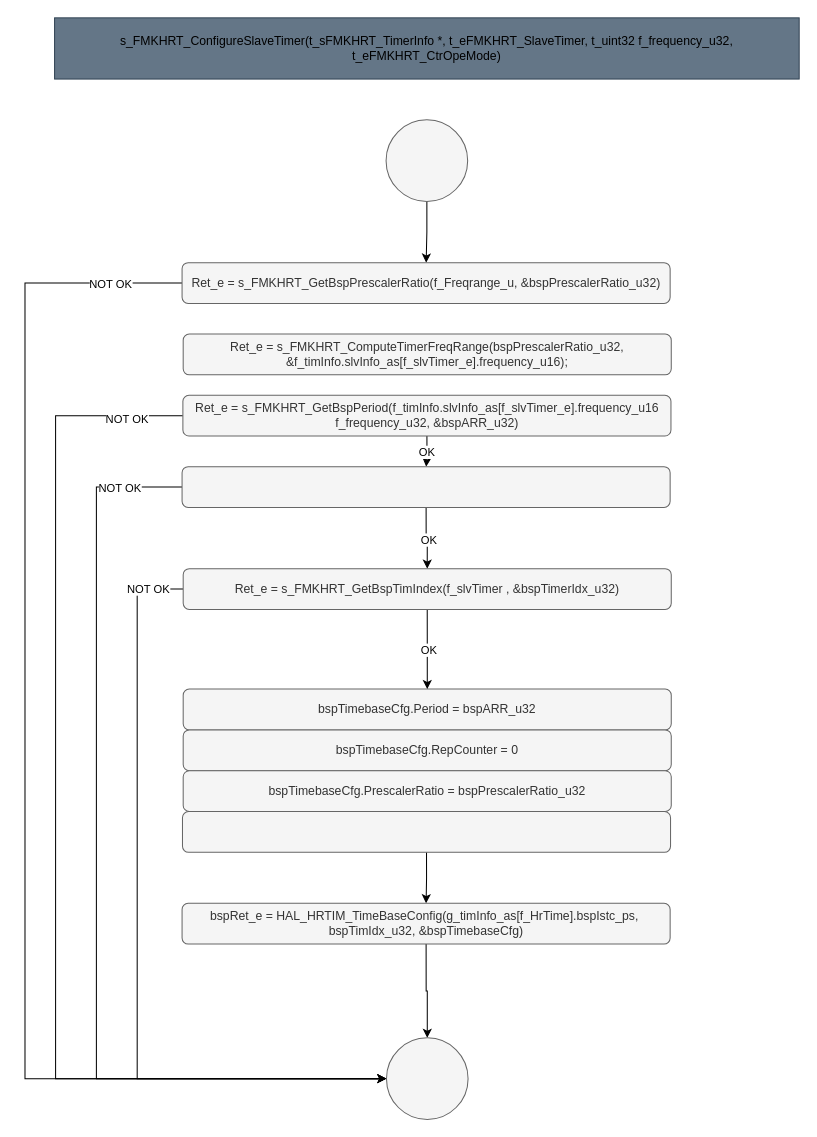
Image size: 817x1137. Some labels were removed from this diagram. The centre of each missing label's shape, as x and y in pixels:
bspTimebaseCfg.Mode= bspPrescalerRatio_u32: the point at 426,831
End: the point at 426,1078
Ret_e = s_FMKHRT_GetBspCtrOpeMode(f_CtrOpeMode_e, &bspCtrOpeMode_u32): the point at 425,486
Start: the point at 426,160
